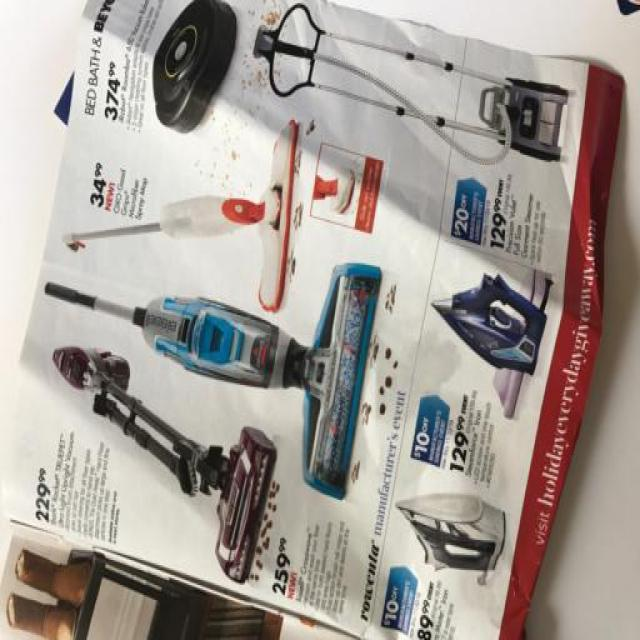paper: (48, 18, 632, 631)
